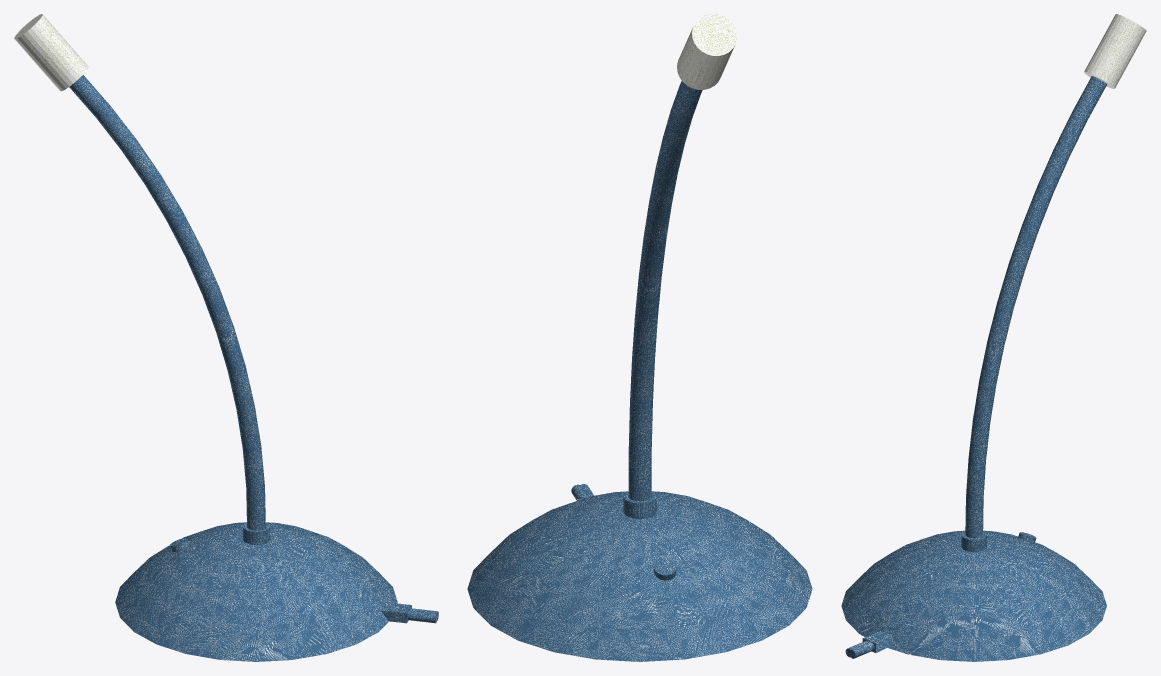
3 renders of one model, left to right at view 1: azimuth 30°, elevation 25°; view 2: azimuth 150°, elevation 25°; view 3: azimuth 270°, elevation 25°, orthographic. The views are drawn at different scales.
Parts seen in each view (by area): view 1: mesh1_mesh1-geometry; view 2: mesh1_mesh1-geometry; view 3: mesh1_mesh1-geometry.
Part boxes in pixels (x1=…): mesh1_mesh1-geometry: x1=14, y1=14, x2=438, y2=661; mesh1_mesh1-geometry: x1=467, y1=14, x2=812, y2=661; mesh1_mesh1-geometry: x1=841, y1=14, x2=1146, y2=661.
Bounding box in the file's own units: 0.421 × 0.8034 × 0.421.
